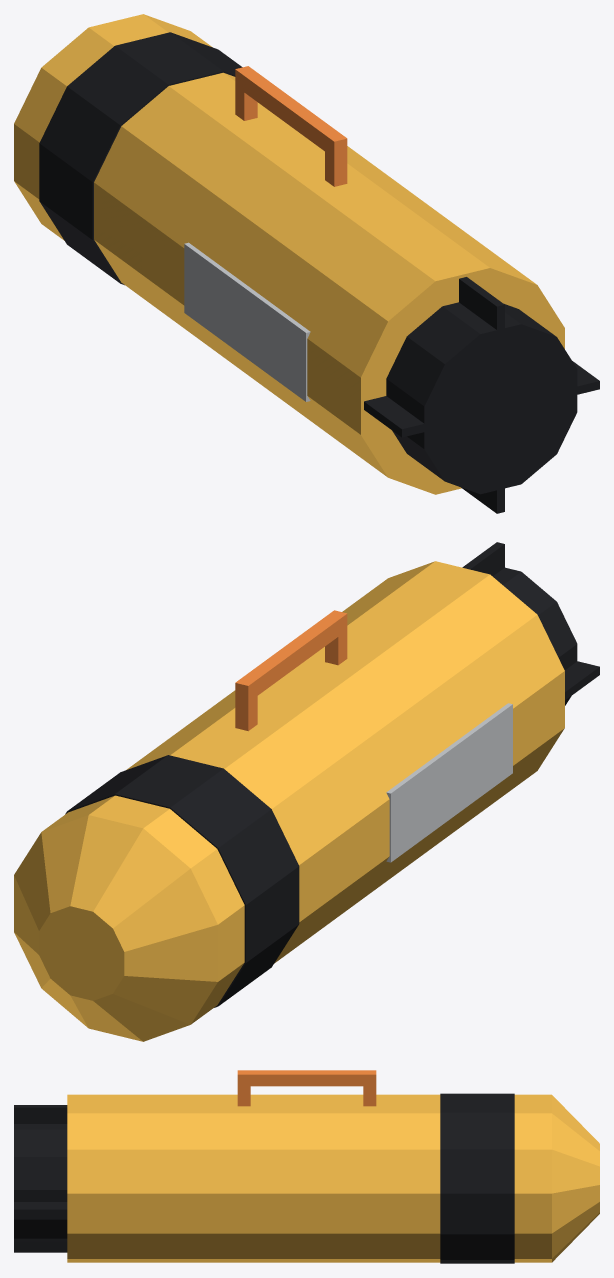
The model's file is decoy.glb.
The picture shows the model from 3 angles, top to bottom: view 1: azimuth 30°, elevation 25°; view 2: azimuth 150°, elevation 25°; view 3: azimuth 270°, elevation 25°; orthographic projection. The views are drawn at different scales.
Visible parts, largest first — view 1: DecoyBody; view 2: DecoyBody; view 3: DecoyBody.
Boxes of the visible parts, x1,y1,x2,y2 form: DecoyBody: [14, 14, 599, 513]; DecoyBody: [14, 542, 599, 1041]; DecoyBody: [14, 1070, 599, 1263].
Size of the model in its own units: 0.1565 by 0.1882 by 0.55.
